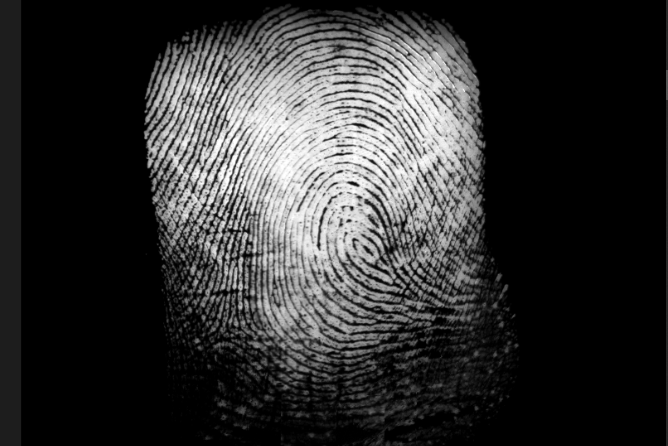nucelo: (339, 223, 381, 266)
verticilo: (205, 313, 245, 342), (382, 269, 406, 293)
